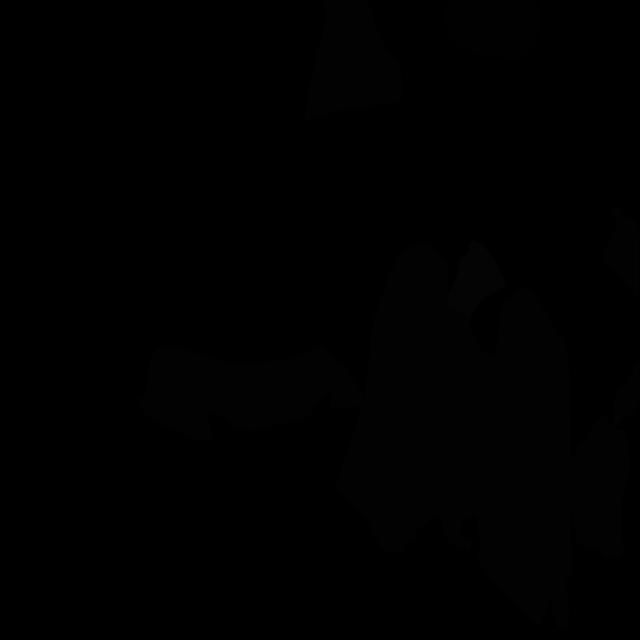cardboard: (335, 243, 498, 552), (477, 285, 573, 628), (136, 345, 364, 442), (304, 0, 402, 122), (571, 414, 630, 559), (604, 206, 640, 300), (612, 360, 640, 428)
rigid_plastic: (443, 0, 540, 60)
soft_plastic: (447, 240, 506, 320)
